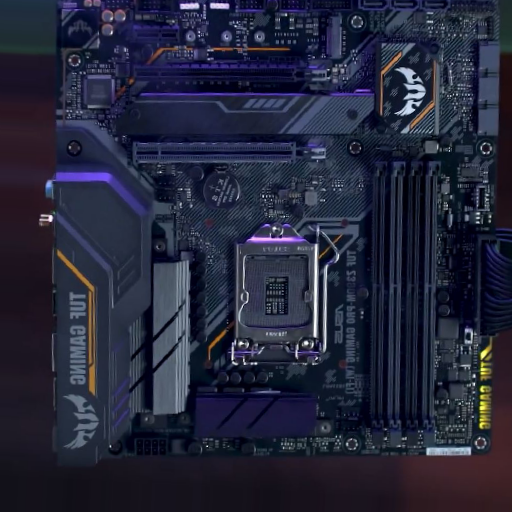CPU: (232, 221, 320, 362)
GPU: (130, 138, 331, 166), (132, 63, 330, 87)
MOTHERBOARD: (55, 1, 501, 461)
RAM: (371, 160, 436, 434)
SSD: (325, 14, 346, 60)
